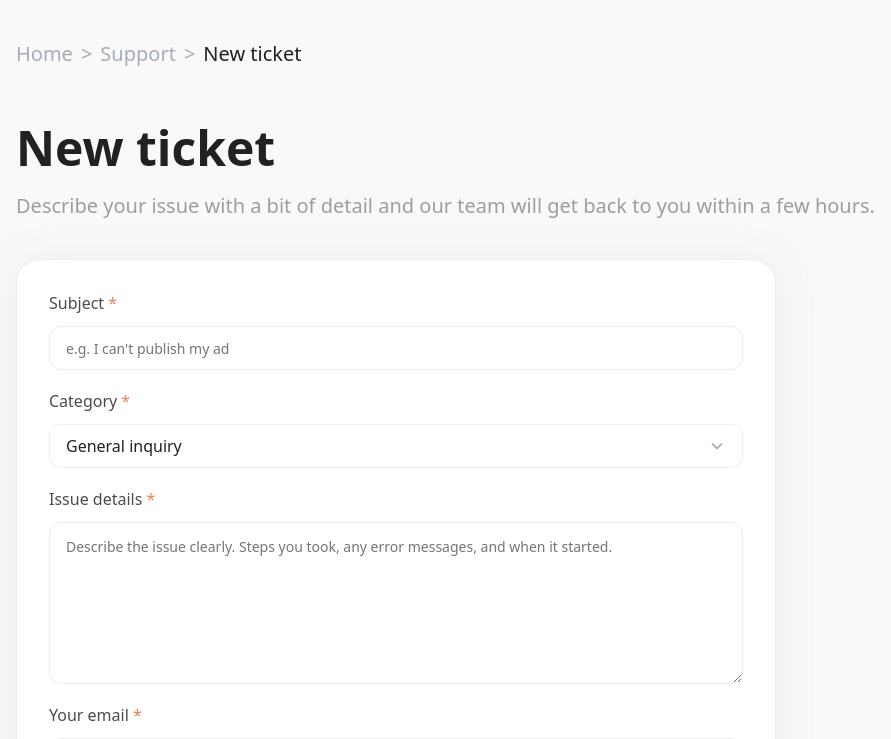
Scenario: NewTicketClient › shows server-side field errors next to the field
Type "Cannot publish my ad" into the field labelled "Subject".
click(396, 348); type("Cannot publish my ad")  # box [49,326,743,370]
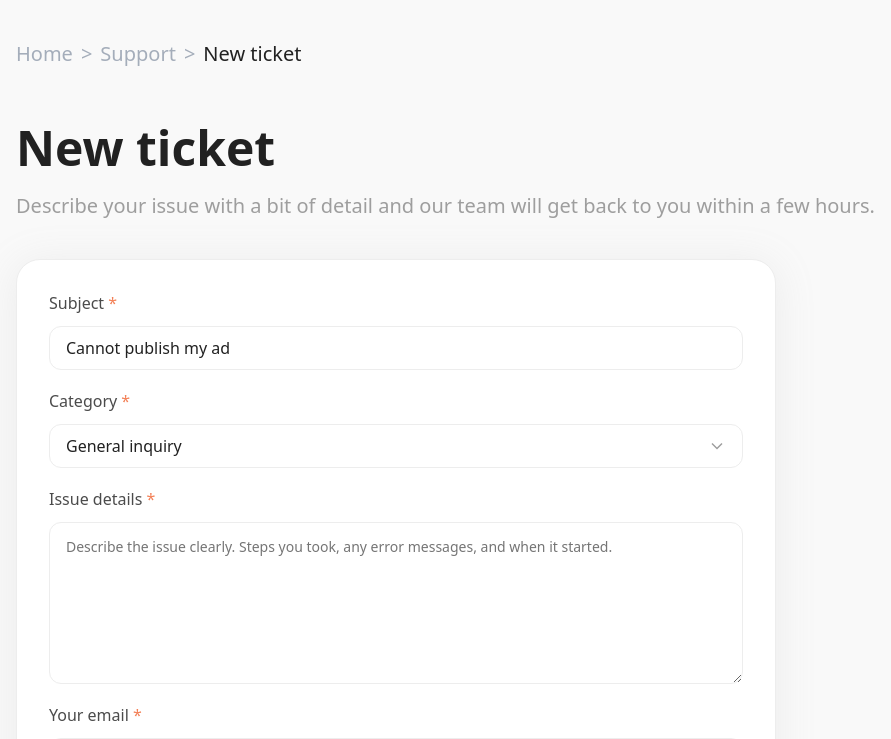
Replace the text in the text box labelled "Issue details" with "The publish button does nothing on step three." at (396, 603), box [49,522,743,684]
(page scrolled)
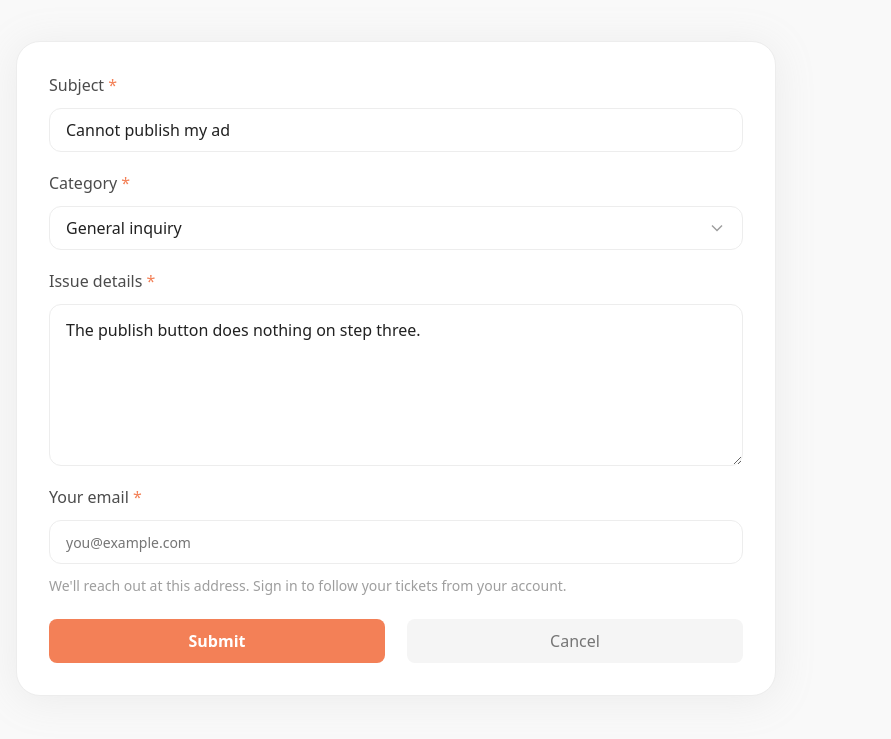
Type "guest@example.qa" into the field labelled "Your email".
click(396, 542); type("guest@example.qa")  # box [49,520,743,564]
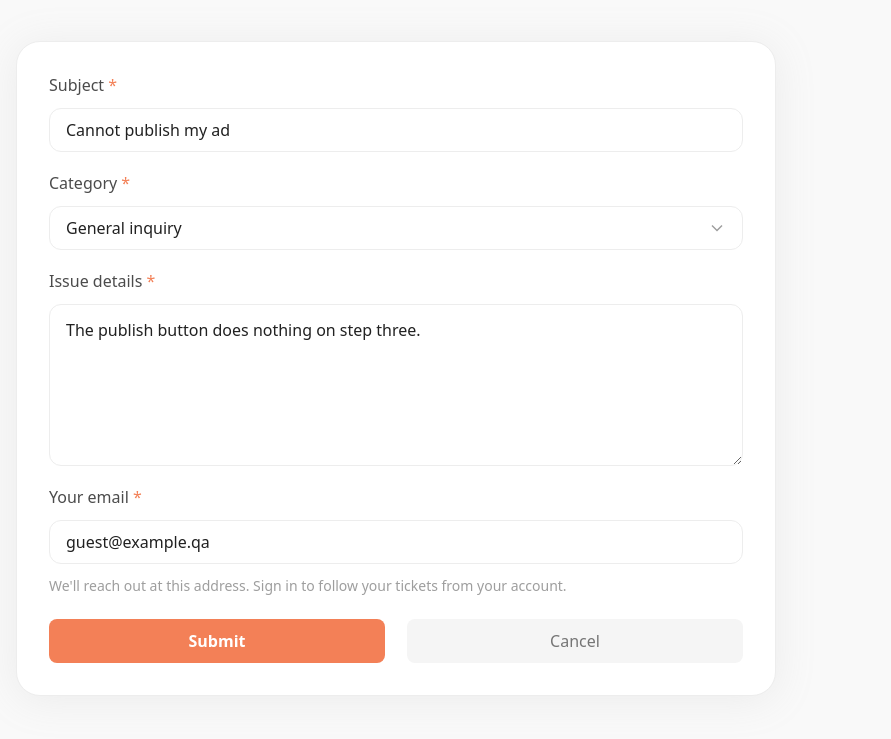
Click the button "Submit".
click(217, 641)  # box [49,619,385,663]
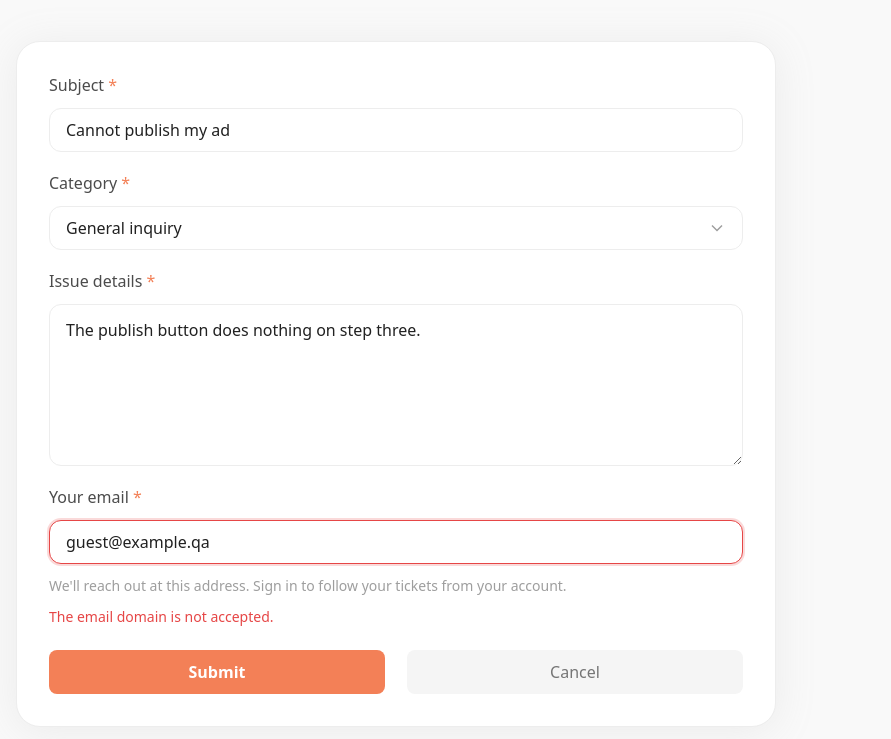
Check: the message reads "The email domain is not accepted.", box [49,607,274,626]
